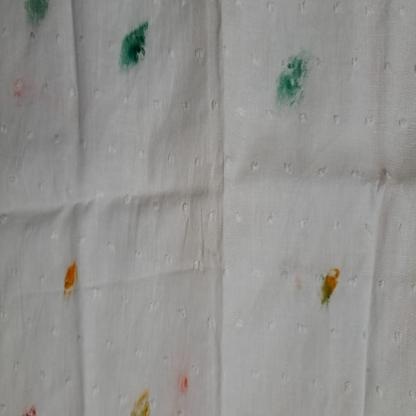spot: (274, 56, 308, 108), (291, 50, 315, 91), (127, 18, 150, 60), (119, 30, 141, 70), (319, 265, 342, 303), (19, 0, 50, 26), (129, 385, 154, 416), (60, 256, 78, 296), (177, 368, 193, 404), (10, 79, 23, 108), (18, 404, 42, 416), (295, 270, 303, 293)
